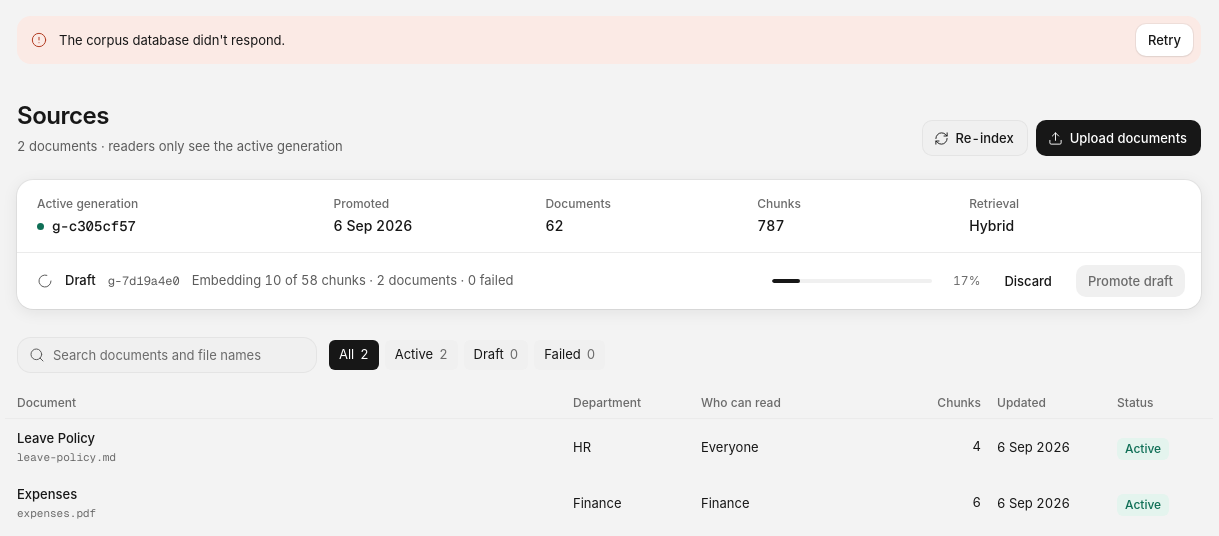
Test: SourcesWorkspace polling › stops and shows a retry when a poll fails
Expected: the message shows "The corpus database didn't respond.", [59, 32, 285, 48]
Click the button "Retry" at (1164,40), box [1136, 24, 1193, 56]
Wait 2000 ms
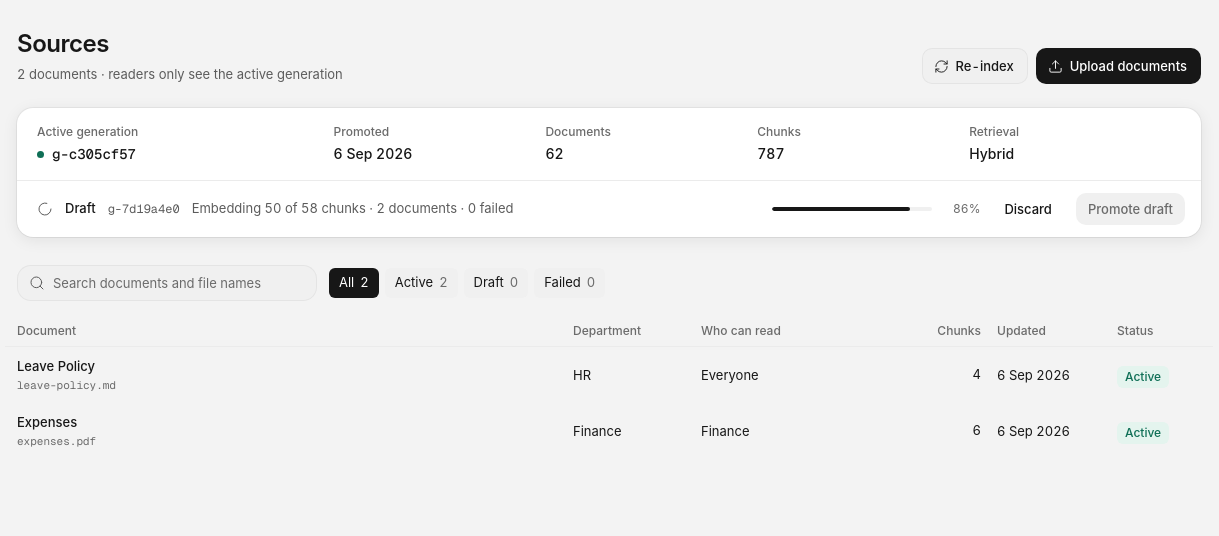
Expected: the message "The corpus database didn't respond. Retry" is gone
